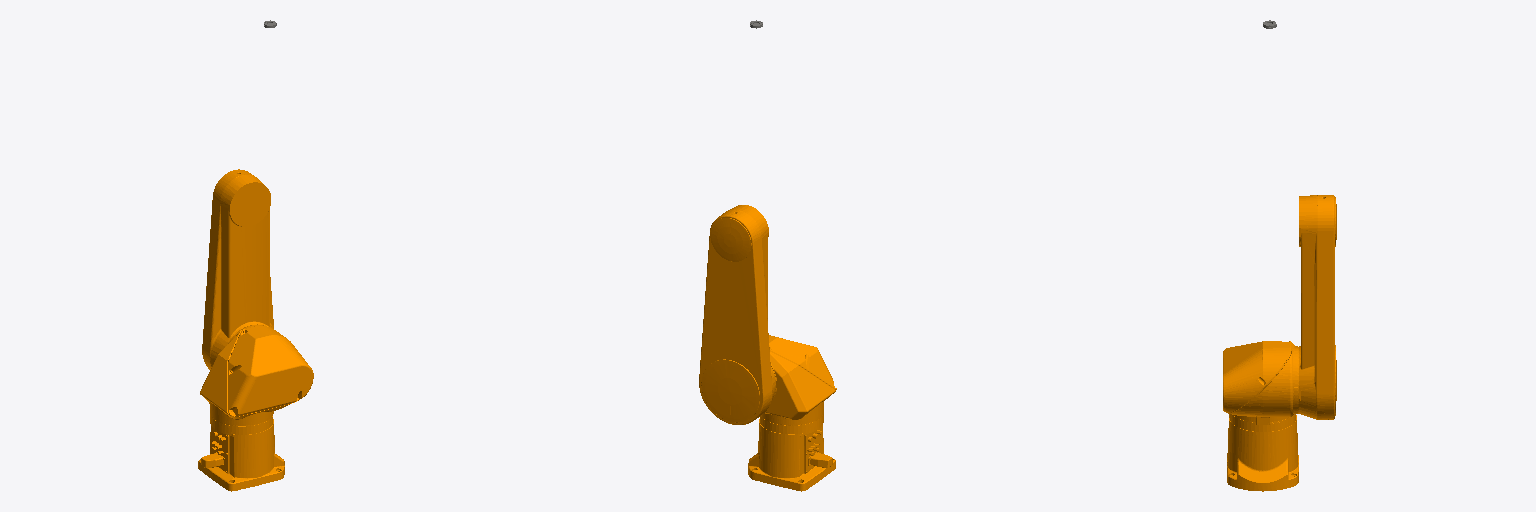
URDF robot description (staubli_rx160l):
<?xml version="1.0" ?>
<!-- =================================================================================== -->
<!-- |    This document was autogenerated by xacro from rx160l.xacro                   | -->
<!-- |    EDITING THIS FILE BY HAND IS NOT RECOMMENDED                                 | -->
<!-- =================================================================================== -->
<robot name="staubli_rx160l" xmlns:xacro="http://ros.org/wiki/xacro">
  <!-- RAL 1028 -->
  <!-- RAL 1018 -->
  <!-- RAL 9016 -->
  <!-- RAL 7043 -->
  <!-- links -->
  <link name="base_link">
    <visual>
      <origin rpy="0 0 0" xyz="0 0 0"/>
      <geometry>
        <mesh filename="package://staubli_rx160_support/meshes/rx160/visual/base_link.stl"/>
      </geometry>
      <material name="">
        <color rgba="1.0 0.607843137255 0.0 1.0"/>
      </material>
    </visual>
    <collision>
      <origin rpy="0 0 0" xyz="0 0 0"/>
      <geometry>
        <mesh filename="package://staubli_rx160_support/meshes/rx160/collision/base_link.stl"/>
      </geometry>
    </collision>
    <inertial>
      <mass value="23.085357"/>
      <origin rpy="0.0 0.0 0.0" xyz="0.007579 0.000017 0.180670"/>
      <inertia ixx="0.343576" ixy="-0.000062" ixz="-0.002079" iyy="0.336217" iyz="-0.000014" izz="0.334050"/>
    </inertial>
  </link>
  <link name="link_1">
    <visual>
      <origin rpy="0 0 0" xyz="0 0 0"/>
      <geometry>
        <mesh filename="package://staubli_rx160_support/meshes/rx160/visual/link_1.stl"/>
      </geometry>
      <material name="">
        <color rgba="1.0 0.607843137255 0.0 1.0"/>
      </material>
    </visual>
    <collision>
      <origin rpy="0 0 0" xyz="0 0 0"/>
      <geometry>
        <mesh filename="package://staubli_rx160_support/meshes/rx160/collision/link_1.stl"/>
      </geometry>
    </collision>
    <inertial>
      <mass value="45.357763"/>
      <origin rpy="0.0 0.0 0.0" xyz="0.085479 -0.002547 -0.040488"/>
      <inertia ixx="0.839141" ixy="0.022637" ixz="0.162457" iyy="1.030146" iyz="0.027416" izz="1.064698"/>
    </inertial>
  </link>
  <link name="link_2">
    <visual>
      <origin rpy="0 0 0" xyz="0 0 0"/>
      <geometry>
        <mesh filename="package://staubli_rx160_support/meshes/rx160/visual/link_2.stl"/>
      </geometry>
      <material name="">
        <color rgba="1.0 0.607843137255 0.0 1.0"/>
      </material>
    </visual>
    <collision>
      <origin rpy="0 0 0" xyz="0 0 0"/>
      <geometry>
        <mesh filename="package://staubli_rx160_support/meshes/rx160/collision/link_2.stl"/>
      </geometry>
    </collision>
    <inertial>
      <mass value="51.266495"/>
      <origin rpy="0.0 0.0 0.0" xyz="-0.000002 0.264164 0.347704"/>
      <inertia ixx="5.272800" ixy="0.000010" ixz="0.000017" iyy="5.536809" iyz="-0.008261" izz="0.486191"/>
    </inertial>
  </link>
  <link name="link_3">
    <visual>
      <origin rpy="0 0 0" xyz="0 0 0"/>
      <geometry>
        <mesh filename="package://staubli_rx160_support/meshes/rx160/visual/link_3.stl"/>
      </geometry>
      <material name="">
        <color rgba="1.0 0.607843137255 0.0 1.0"/>
      </material>
    </visual>
    <collision>
      <origin rpy="0 0 0" xyz="0 0 0"/>
      <geometry>
        <mesh filename="package://staubli_rx160_support/meshes/rx160/collision/link_3.stl"/>
      </geometry>
    </collision>
    <inertial>
      <mass value="19.754401"/>
      <origin rpy="0.0 0.0 0.0" xyz="-0.000255 0.016478 -0.003819"/>
      <inertia ixx="0.249388" ixy="-0.004901" ixz="0.004825" iyy="0.211780" iyz="0.000574" izz="0.238488"/>
    </inertial>
  </link>
  <link name="link_4">
    <visual>
      <origin rpy="0 0 0" xyz="0 0 0"/>
      <geometry>
        <mesh filename="package://staubli_rx160_support/meshes/rx160l/visual/link_4.stl"/>
      </geometry>
      <material name="">
        <color rgba="1.0 0.607843137255 0.0 1.0"/>
      </material>
    </visual>
    <collision>
      <origin rpy="0 0 0" xyz="0 0 0"/>
      <geometry>
        <mesh filename="package://staubli_rx160_support/meshes/rx160l/collision/link_4.stl"/>
      </geometry>
    </collision>
    <inertial>
      <mass value="27.640019"/>
      <origin rpy="0.0 0.0 0.0" xyz="-0.009602 0.000028 0.472641"/>
      <inertia ixx="1.378080" ixy="0.000062" ixz="-0.042670" iyy="1.366754" iyz="0.000069" izz="0.170331"/>
    </inertial>
  </link>
  <link name="link_5">
    <visual>
      <origin rpy="0 0 0" xyz="0 0 0"/>
      <geometry>
        <mesh filename="package://staubli_rx160_support/meshes/rx160/visual/link_5.stl"/>
      </geometry>
      <material name="">
        <color rgba="0.529411764706 0.521568627451 0.505882352941 1.0"/>
      </material>
    </visual>
    <collision>
      <origin rpy="0 0 0" xyz="0 0 0"/>
      <geometry>
        <mesh filename="package://staubli_rx160_support/meshes/rx160/collision/link_5.stl"/>
      </geometry>
    </collision>
    <inertial>
      <mass value="0.548088"/>
      <origin rpy="0.0 0.0 0.0" xyz="0.000000 -0.000347 0.023671"/>
      <inertia ixx="0.000876" ixy="0.000000" ixz="0.000000" iyy="0.000889" iyz="0.000005" izz="0.000412"/>
    </inertial>
  </link>
  <link name="link_6">
    <visual>
      <origin rpy="0 0 0" xyz="0 0 0"/>
      <geometry>
        <mesh filename="package://staubli_rx160_support/meshes/rx160/visual/link_6.stl"/>
      </geometry>
      <material name="">
        <color rgba="0.529411764706 0.521568627451 0.505882352941 1.0"/>
      </material>
    </visual>
    <collision>
      <origin rpy="0 0 0" xyz="0 0 0"/>
      <geometry>
        <mesh filename="package://staubli_rx160_support/meshes/rx160/collision/link_6.stl"/>
      </geometry>
    </collision>
    <inertial>
      <mass value="0.038484"/>
      <origin rpy="0.0 0.0 0.0" xyz="-0.000245 0.000000 -0.007626"/>
      <inertia ixx="0.000011" ixy="0.000000" ixz="0.000000" iyy="0.000011" iyz="0.000000" izz="0.000021"/>
    </inertial>
  </link>
  <link name="tool0"/>
  <!-- joints -->
  <joint name="joint_1" type="revolute">
    <origin rpy="0 0 0" xyz="0 0 0.55"/>
    <parent link="base_link"/>
    <child link="link_1"/>
    <axis xyz="0 0 1"/>
    <limit effort="692.0" lower="-2.967060" upper="2.967060" velocity="2.88"/>
    <dynamics damping="0.0" friction="0.0"/>
  </joint>
  <joint name="joint_2" type="revolute">
    <origin rpy="0 0 0" xyz="0.15 0 0"/>
    <parent link="link_1"/>
    <child link="link_2"/>
    <axis xyz="0 1 0"/>
    <limit effort="574.0" lower="-2.4" upper="2.4" velocity="2.62"/>
    <dynamics damping="0.0" friction="0.0"/>
  </joint>
  <joint name="joint_3" type="revolute">
    <origin rpy="0 0 0" xyz="0 0 0.825"/>
    <parent link="link_2"/>
    <child link="link_3"/>
    <axis xyz="0 1 0"/>
    <limit effort="242.0" lower="-2.62" upper="2.62" velocity="3.32"/>
    <dynamics damping="0.0" friction="0.0"/>
  </joint>
  <joint name="joint_4" type="revolute">
    <origin rpy="0 0 0" xyz="0 0 0"/>
    <parent link="link_3"/>
    <child link="link_4"/>
    <axis xyz="0 0 1"/>
    <limit effort="58.0" lower="-4.71" upper="4.71" velocity="5.15"/>
    <dynamics damping="0.0" friction="0.0"/>
  </joint>
  <joint name="joint_5" type="revolute">
    <origin rpy="0 0 0" xyz="0 0 0.925"/>
    <parent link="link_4"/>
    <child link="link_5"/>
    <axis xyz="0 1 0"/>
    <limit effort="29.0" lower="-1.83" upper="2.09" velocity="4.54"/>
    <dynamics damping="0.0" friction="0.0"/>
  </joint>
  <joint name="joint_6" type="revolute">
    <origin rpy="0 0 0" xyz="0 0 0.11"/>
    <parent link="link_5"/>
    <child link="link_6"/>
    <axis xyz="0 0 1"/>
    <limit effort="29.0" lower="-4.71" upper="4.71" velocity="7.68"/>
    <dynamics damping="0.0" friction="0.0"/>
  </joint>
  <joint name="joint_6-tool0" type="fixed">
    <parent link="link_6"/>
    <child link="tool0"/>
    <origin rpy="0 0 0" xyz="0 0 0"/>
  </joint>
</robot>

--- Facts derived from the render (not from the file) ---
The picture shows the robot from 3 angles, left to right: view 1: azimuth 30°, elevation 25°; view 2: azimuth 150°, elevation 25°; view 3: azimuth 270°, elevation 25°; orthographic projection.
Robot: staubli_rx160l — 8 links, 7 joints (6 revolute, 1 fixed); root link base_link; default pose: all joints at 0.
Links seen in each view (by area): view 1: link_2, link_1, base_link; view 2: link_2, base_link, link_1; view 3: link_2, link_1, base_link.
Boxes of the visible links, x1,y1,x2,y2 form: link_2: [202, 169, 273, 369]; link_1: [200, 325, 313, 425]; base_link: [198, 415, 284, 491]; link_2: [699, 205, 775, 424]; base_link: [748, 414, 835, 491]; link_1: [761, 335, 836, 425]; link_2: [1299, 195, 1336, 419]; link_1: [1223, 341, 1298, 424]; base_link: [1227, 414, 1298, 491].
Size in the robot's own frame: 0.5605 by 0.5424 by 2.42 metres.
Meshes: 7 distinct files referenced, 4 mesh visuals loaded (4 binary STL); not drawn: 3 (reference not matched to a file when rendering).